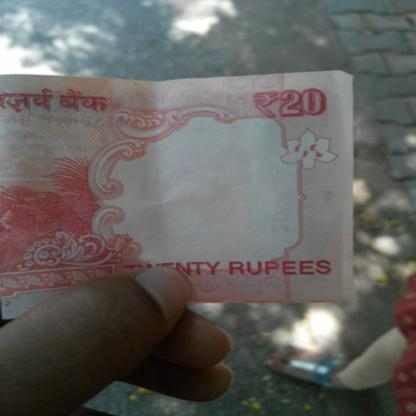Old20Back: (0, 79, 349, 292)
